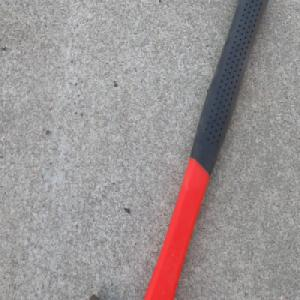Hammer: (85, 0, 267, 300)
